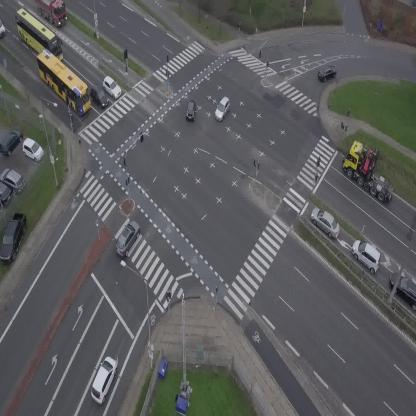bicycle: (68, 113, 75, 128)
bus: (29, 47, 100, 118), (5, 6, 72, 67)
car: (86, 355, 121, 406), (346, 236, 388, 276), (305, 204, 345, 241), (111, 217, 145, 260), (85, 83, 113, 110), (99, 75, 125, 100), (212, 95, 234, 123), (315, 62, 339, 83), (186, 100, 195, 121)
lorry: (335, 134, 399, 214), (37, 0, 67, 27), (0, 19, 5, 38)
